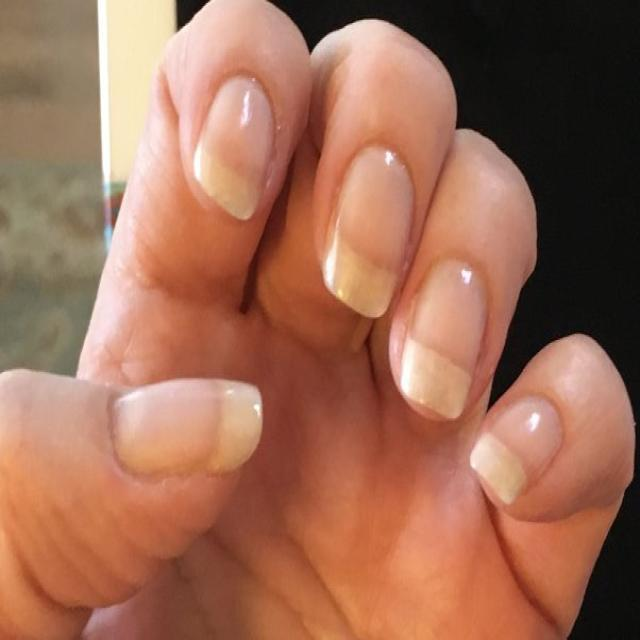Fingernail: (320, 144, 415, 317), (110, 378, 264, 479), (401, 259, 489, 419), (195, 74, 277, 220), (472, 394, 564, 505)
